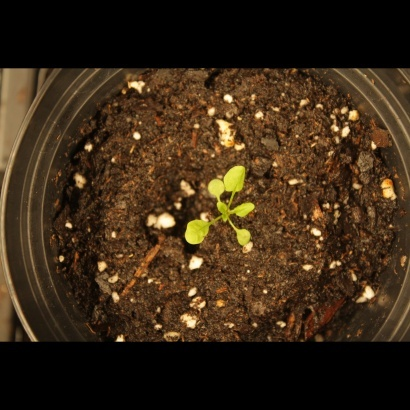leaf: (179, 215, 215, 250), (225, 161, 256, 199), (201, 174, 227, 203), (232, 200, 260, 223), (231, 226, 254, 249)
